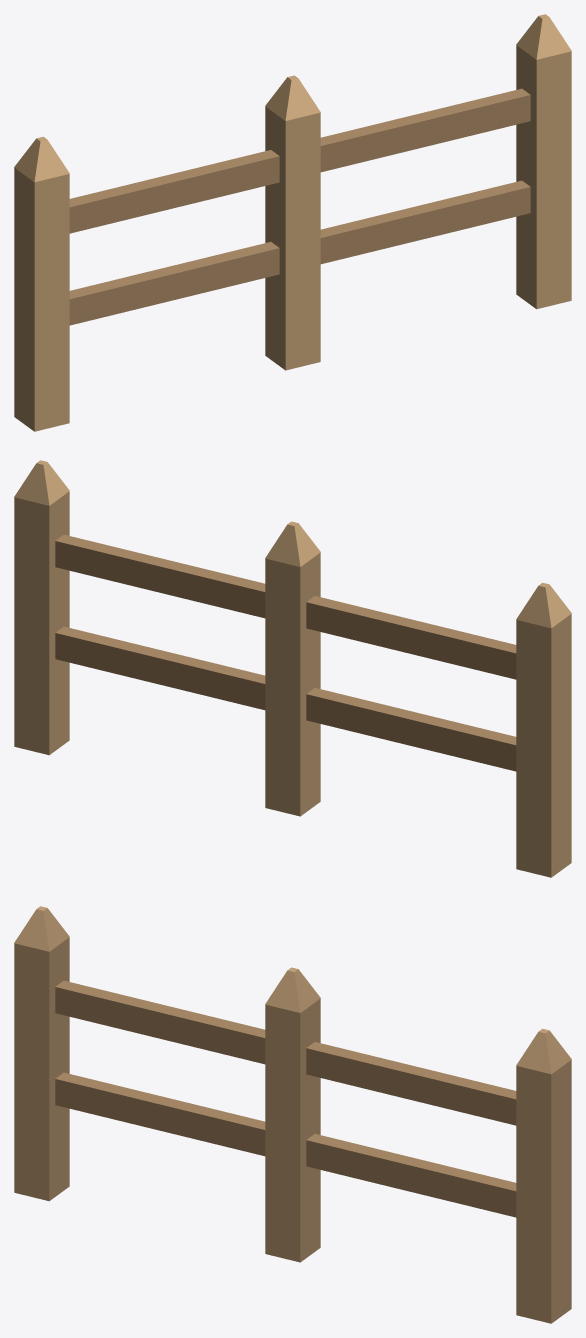
File: fence_2m.glb
3 renders of one model, top to bottom at view 1: azimuth 30°, elevation 25°; view 2: azimuth 150°, elevation 25°; view 3: azimuth 330°, elevation 25°, orthographic.
Visible parts, largest first — view 1: Player; view 2: Player; view 3: Player.
Part boxes in pixels (x1,y1,x2,y2): Player: (14, 14, 571, 431); Player: (14, 460, 571, 877); Player: (14, 906, 571, 1323).
Bounding box in the file's own units: 2.14 × 1.07 × 0.1414.
